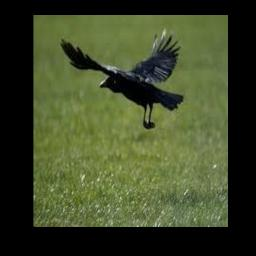Crow: (61, 24, 185, 129)
